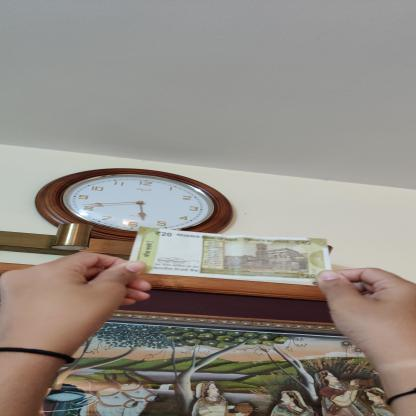New20Back: (129, 226, 332, 282)
